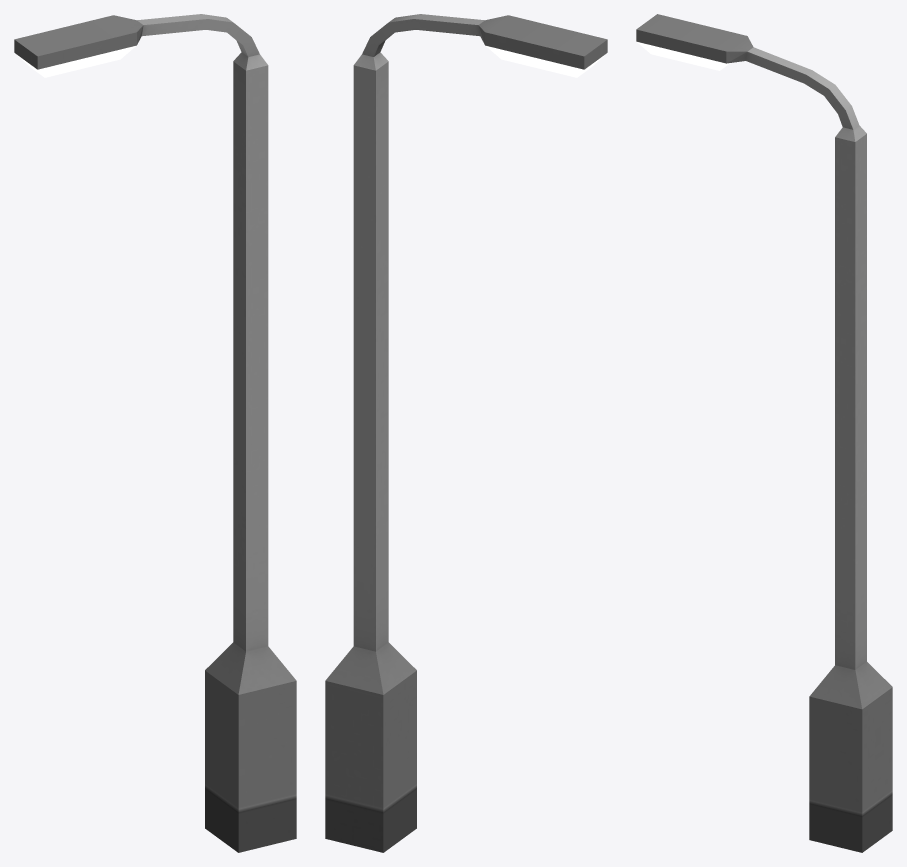
The model's file is TRF0410006.fbx.
3 renders of one model, left to right at view 1: azimuth 30°, elevation 25°; view 2: azimuth 150°, elevation 25°; view 3: azimuth 330°, elevation 25°, orthographic. The views are drawn at different scales.
Visible parts, largest first — view 1: smTRF0410006; view 2: smTRF0410006; view 3: smTRF0410006.
Boxes of the visible parts, bbox=[...] form: smTRF0410006: bbox=[14, 14, 296, 852]; smTRF0410006: bbox=[325, 14, 607, 852]; smTRF0410006: bbox=[636, 14, 892, 852].
Bounding box in the file's own units: 128 × 405 × 29.38.
1 material, 1 textured.
